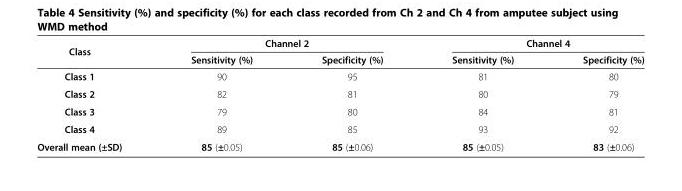table: (36, 37, 643, 152)
table column: (155, 37, 286, 152), (416, 37, 547, 152), (286, 37, 416, 152), (36, 37, 155, 152), (547, 37, 643, 152)
table column header: (36, 37, 643, 67)
table row: (36, 84, 643, 102), (36, 102, 643, 120), (36, 67, 643, 84), (36, 120, 643, 137), (36, 51, 643, 67), (36, 137, 643, 152), (36, 37, 643, 51)
table spanning cell: (155, 37, 416, 51), (36, 37, 155, 67), (416, 37, 643, 51)
